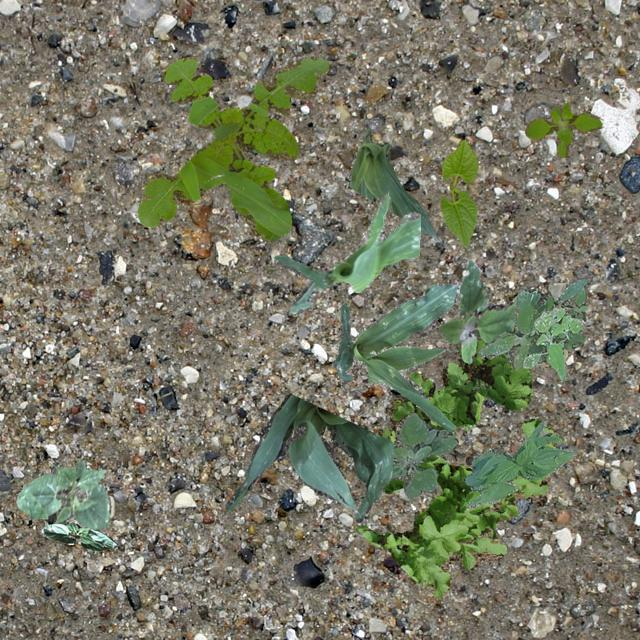crop: (224, 392, 392, 520), (332, 280, 459, 430), (274, 190, 419, 312), (348, 125, 436, 238), (464, 419, 574, 508), (15, 458, 110, 528), (438, 138, 476, 246), (40, 522, 116, 552)
weed: (357, 292, 555, 598), (136, 54, 330, 240), (476, 276, 586, 368), (438, 258, 514, 362), (389, 412, 456, 498), (522, 304, 584, 378), (524, 102, 600, 156)
